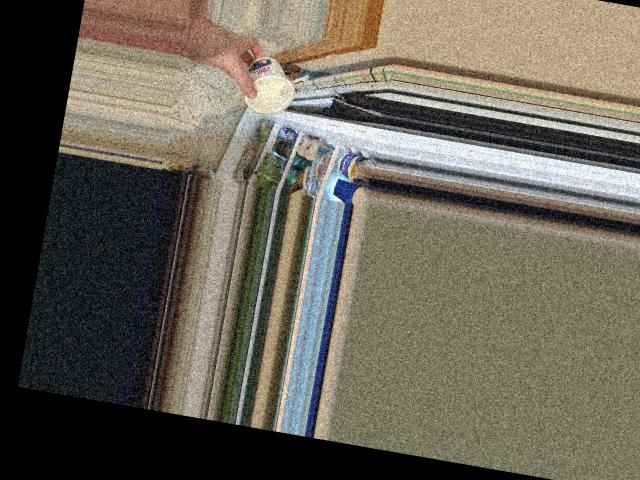cotage: (236, 50, 301, 118)
